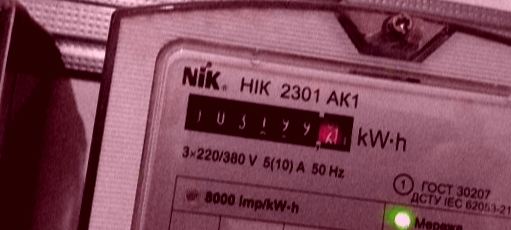0: (214, 106, 228, 127), (191, 104, 203, 123)
1: (258, 110, 270, 129)
3: (235, 110, 248, 131)
6: (322, 128, 334, 144)
9: (278, 112, 291, 134), (300, 118, 313, 137)
screen: (175, 81, 363, 162)
